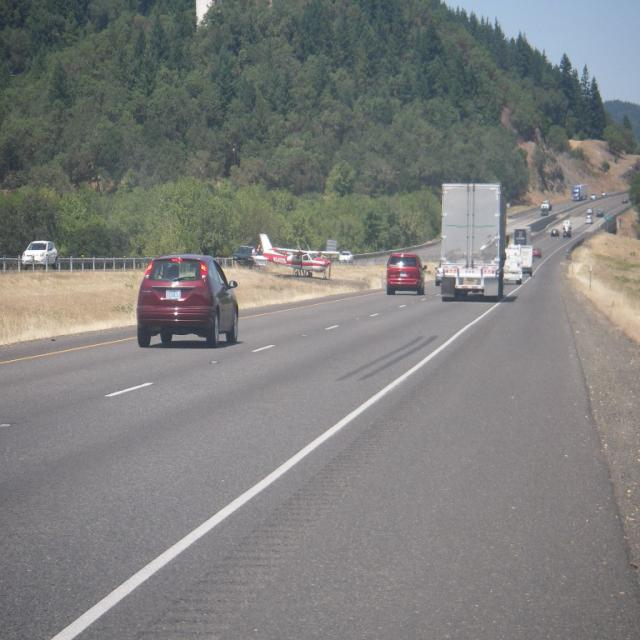other: (136, 254, 238, 348), (385, 252, 427, 295), (21, 240, 58, 270), (435, 259, 440, 286), (532, 249, 542, 259)
